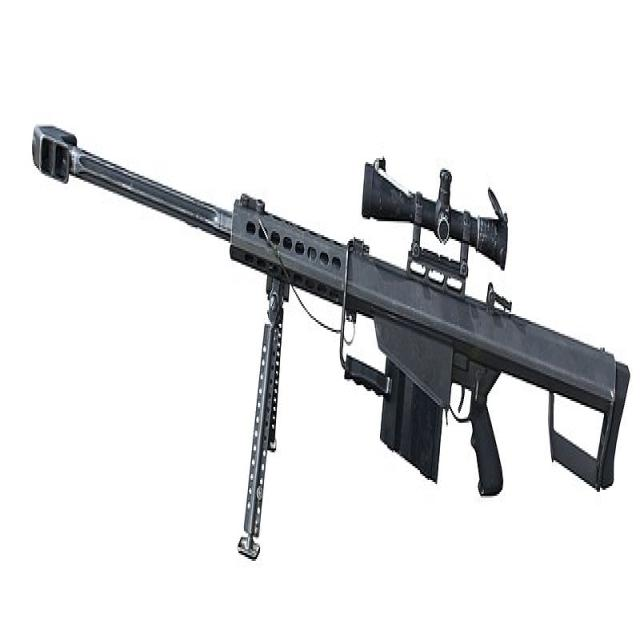Rifle: (30, 126, 633, 500)
